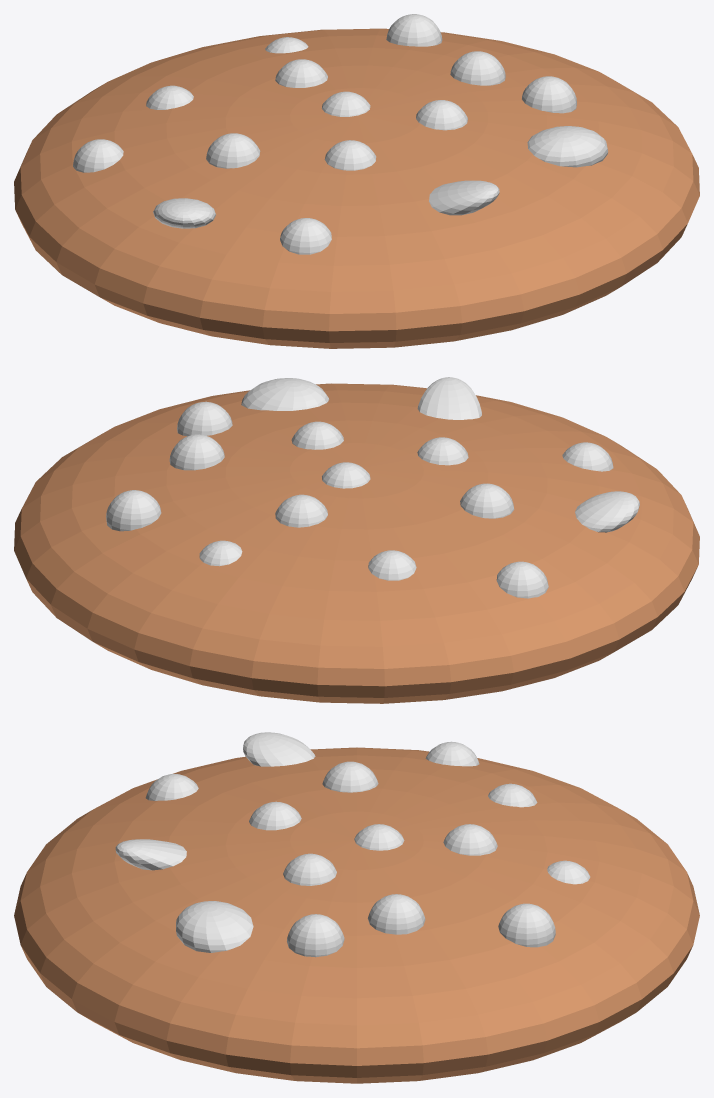
Rendered from Cookie2.fbx.
3 renders of one model, top to bottom at view 1: azimuth 30°, elevation 25°; view 2: azimuth 150°, elevation 25°; view 3: azimuth 270°, elevation 25°, orthographic. The views are drawn at different scales.
Visible parts, largest first — view 1: Sphere, Sphere.009, Sphere.005, Sphere.015, Sphere.014, Sphere.008, Sphere.011, Sphere.003, Sphere.010, Sphere.013, Sphere.012, Sphere.007 (+4 smaller); view 2: Sphere, Sphere.009, Sphere.005, Sphere.014, Sphere.010, Sphere.003, Sphere.013, Sphere.015, Sphere.011, Sphere.004, Sphere.002, Sphere.007 (+4 smaller); view 3: Sphere, Sphere.009, Sphere.010, Sphere.015, Sphere.014, Sphere.003, Sphere.005, Sphere.007, Sphere.011, Sphere.004, Sphere.012, Sphere.008 (+4 smaller).
Boxes of the visible parts, box(x1,y1,x2,y2) form: Sphere: box(14, 28, 699, 348); Sphere.009: box(527, 126, 608, 167); Sphere.005: box(429, 180, 499, 215); Sphere.015: box(522, 76, 576, 113); Sphere.014: box(153, 198, 215, 228); Sphere.008: box(280, 218, 331, 254); Sphere.011: box(206, 133, 260, 168); Sphere.003: box(450, 51, 505, 85); Sphere.010: box(386, 14, 442, 46); Sphere.013: box(73, 139, 123, 172); Sphere.012: box(324, 140, 376, 170); Sphere.007: box(416, 100, 467, 130); Sphere: box(14, 383, 699, 703); Sphere.009: box(241, 378, 329, 410); Sphere.005: box(417, 377, 481, 419); Sphere.014: box(575, 491, 639, 532); Sphere.010: box(106, 490, 161, 531); Sphere.003: box(169, 434, 224, 470); Sphere.013: box(496, 561, 548, 598); Sphere.015: box(177, 401, 232, 436); Sphere.011: box(460, 483, 514, 518); Sphere.004: box(275, 494, 327, 527); Sphere.002: box(368, 550, 416, 580); Sphere.007: box(291, 421, 343, 449); Sphere: box(14, 747, 699, 1083); Sphere.009: box(176, 901, 253, 952); Sphere.010: box(498, 903, 555, 947); Sphere.015: box(287, 914, 344, 957); Sphere.014: box(243, 732, 315, 766); Sphere.003: box(367, 894, 425, 934); Sphere.005: box(115, 839, 186, 870); Sphere.007: box(283, 853, 336, 885); Sphere.011: box(322, 761, 378, 792); Sphere.004: box(443, 824, 497, 855); Sphere.012: box(249, 801, 301, 830); Sphere.008: box(145, 774, 198, 800).
Size of the model in its own units: 73.87 by 19.04 by 71.18.
